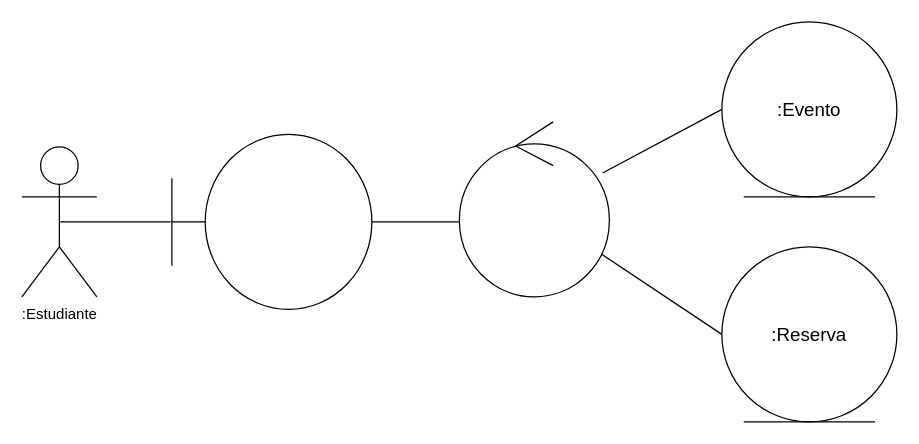
Some shapes in this 919 by 444 pixel diagram are drawn without their labels. The shapes that lost their labels are listed below. From the top down, each one's centre as x and y in pixels, then its label:
At (x=271, y=221): ":PantallaEvento".
At (x=533, y=209): ":Calculo Disponibilidad".
